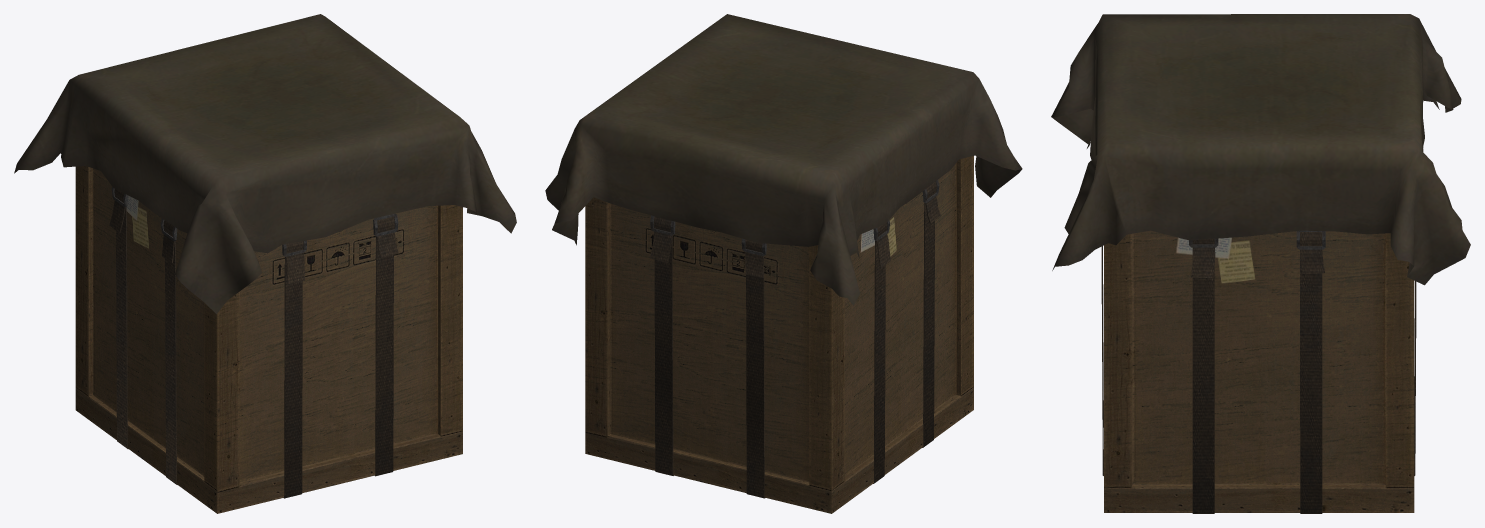
Rendered from wooden_crate_hx_4_1.obj.
3 views of the same model, side by side, from view 1: azimuth 30°, elevation 25°; view 2: azimuth 150°, elevation 25°; view 3: azimuth 270°, elevation 25° (orthographic). The views are drawn at different scales.
Parts seen in each view (by area): view 1: wooden_crate_hx_4_1; view 2: wooden_crate_hx_4_1; view 3: wooden_crate_hx_4_1.
Boxes of the visible parts, x1,y1,x2,y2 form: wooden_crate_hx_4_1: (14,14,516,513); wooden_crate_hx_4_1: (545,14,1022,513); wooden_crate_hx_4_1: (1051,14,1470,513).
Bounding box in the file's own units: 1.89 × 1.84 × 1.89.
